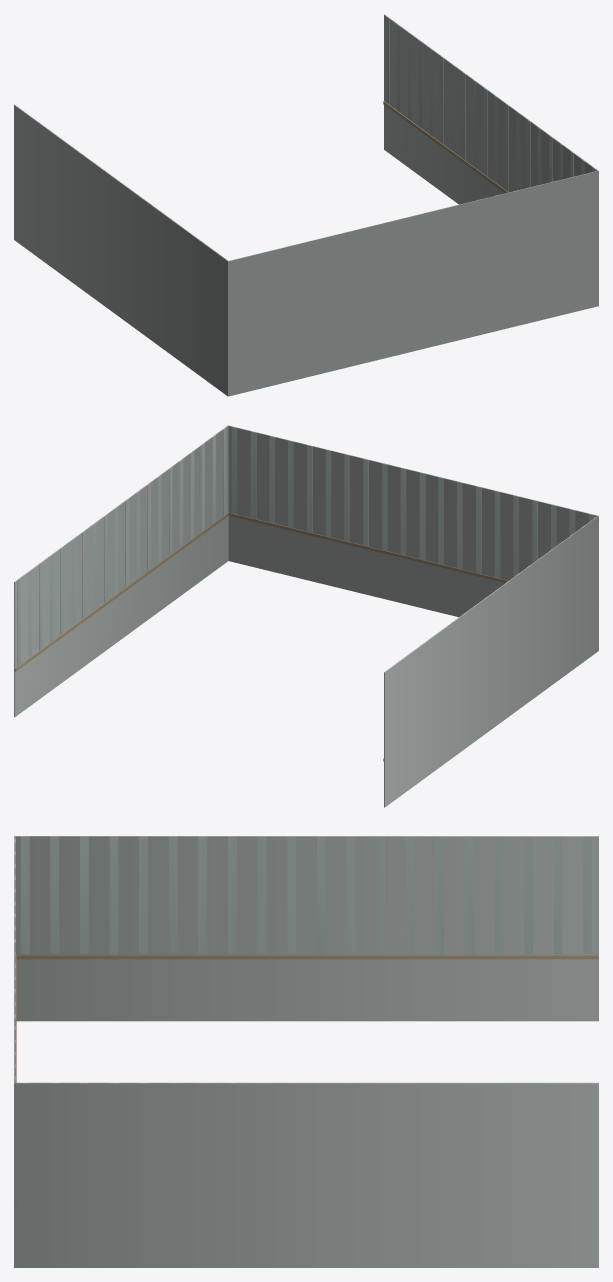
The model's file is home_wallpaper__mint.glb.
The picture shows the model from 3 angles, top to bottom: view 1: azimuth 30°, elevation 25°; view 2: azimuth 150°, elevation 25°; view 3: azimuth 270°, elevation 25°; orthographic projection. The views are drawn at different scales.
Bounding box in the file's own units: 7.9 × 2.75 × 7.9.
